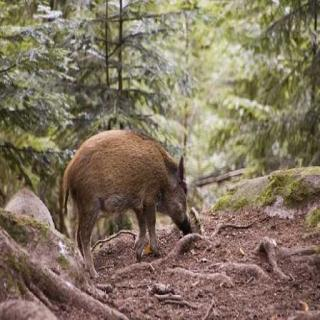Pig: (42, 128, 218, 264)
